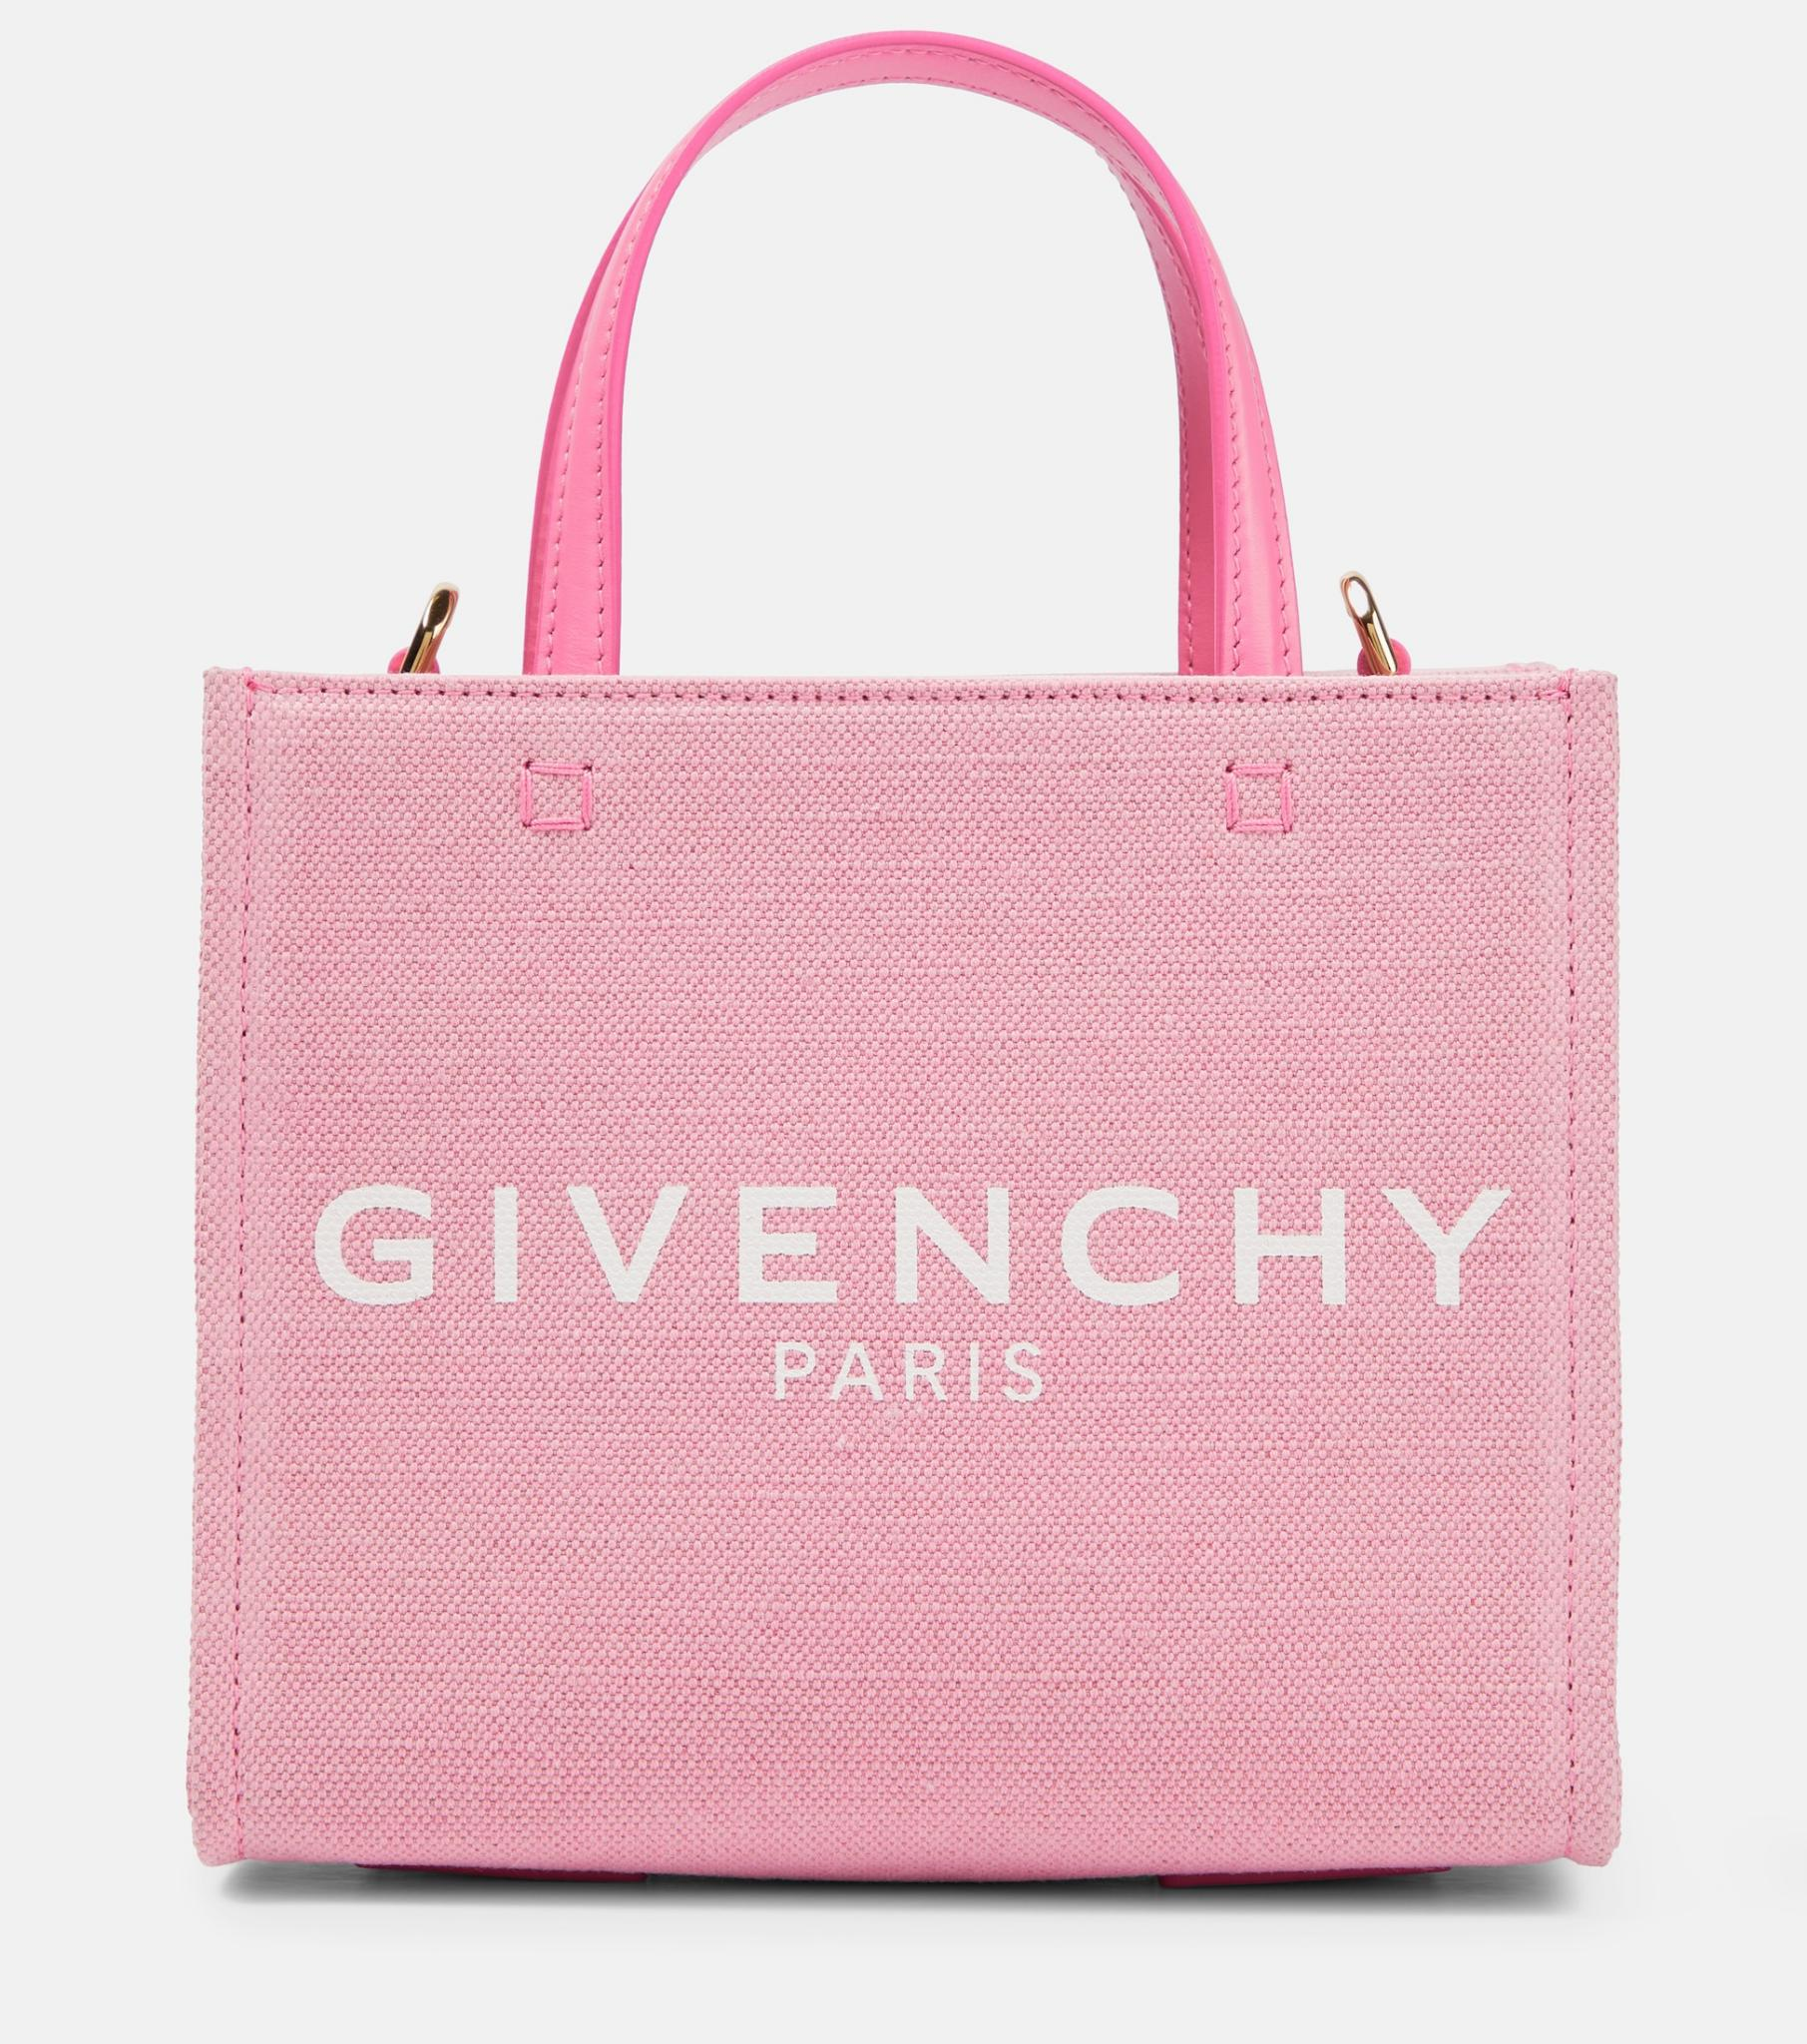GIVENCHY: (295, 1135, 1530, 1350)
